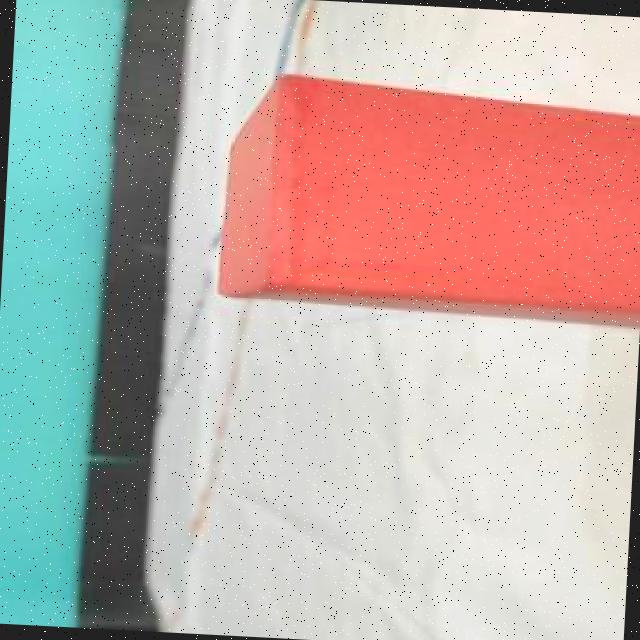redbox: (211, 70, 640, 328)
